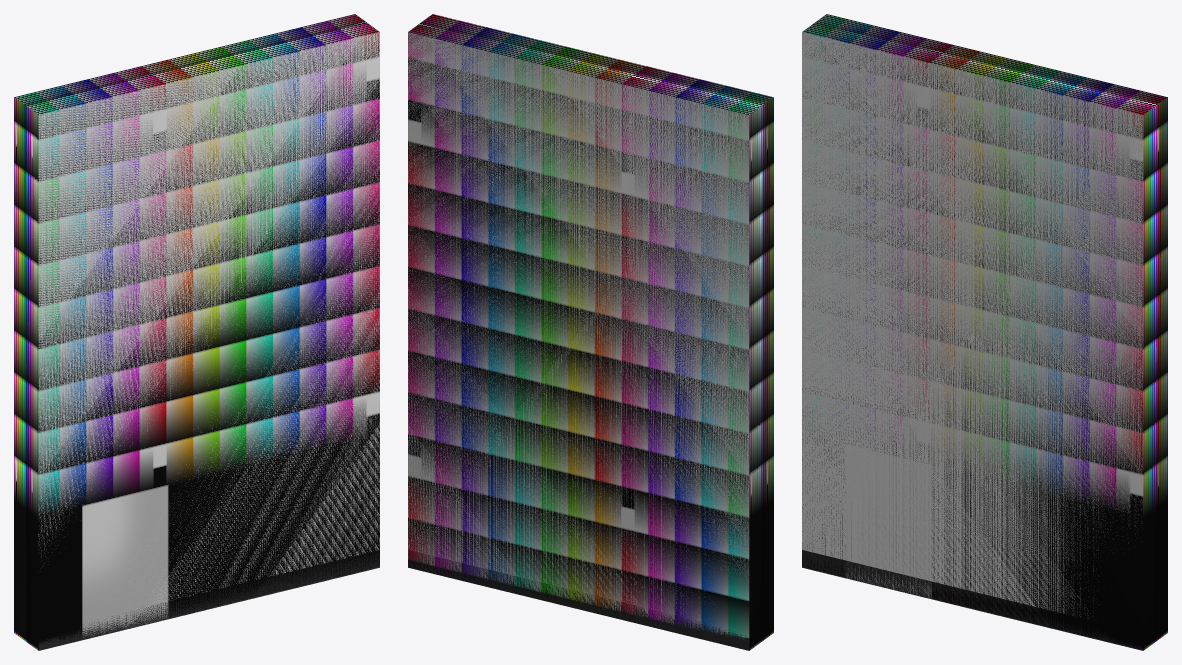
The model's file is interiorWall_line_2_white.fbx.
3 views of the same model, side by side, from view 1: azimuth 30°, elevation 25°; view 2: azimuth 150°, elevation 25°; view 3: azimuth 330°, elevation 25° (orthographic).
Parts seen in each view (by area): view 1: interiorWall_line_2_trigger_white, interiorWall_line_2_white; view 2: interiorWall_line_2_trigger_white, interiorWall_line_2_white; view 3: interiorWall_line_2_white, interiorWall_line_2_trigger_white.
Boxes of the visible parts, left/top/right/bottom form: interiorWall_line_2_trigger_white: left=14, top=14, right=379, bottom=650; interiorWall_line_2_white: left=38, top=32, right=379, bottom=650; interiorWall_line_2_trigger_white: left=408, top=14, right=773, bottom=650; interiorWall_line_2_white: left=408, top=32, right=749, bottom=650; interiorWall_line_2_white: left=802, top=32, right=1143, bottom=650; interiorWall_line_2_trigger_white: left=802, top=14, right=1167, bottom=650.
Size of what is drawn, in the model's own units: 200 by 300 by 25.
